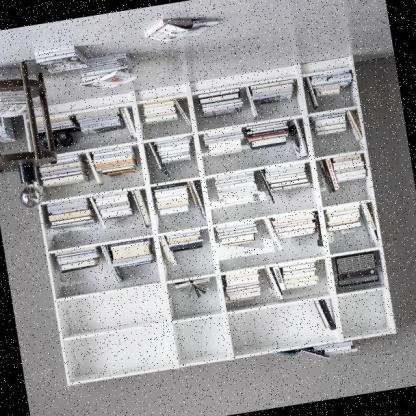Shelf: (19, 46, 409, 393)
